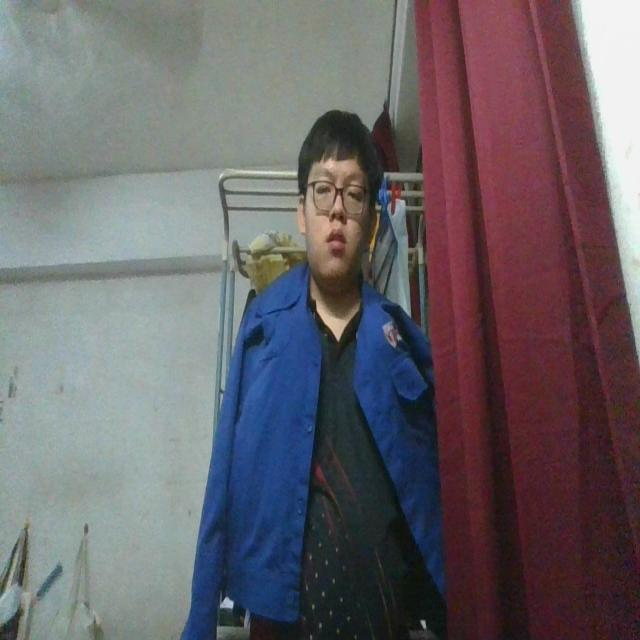person_without_labcoat: (182, 111, 445, 639)
